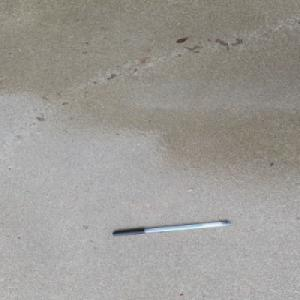Pen: (111, 220, 231, 236)
